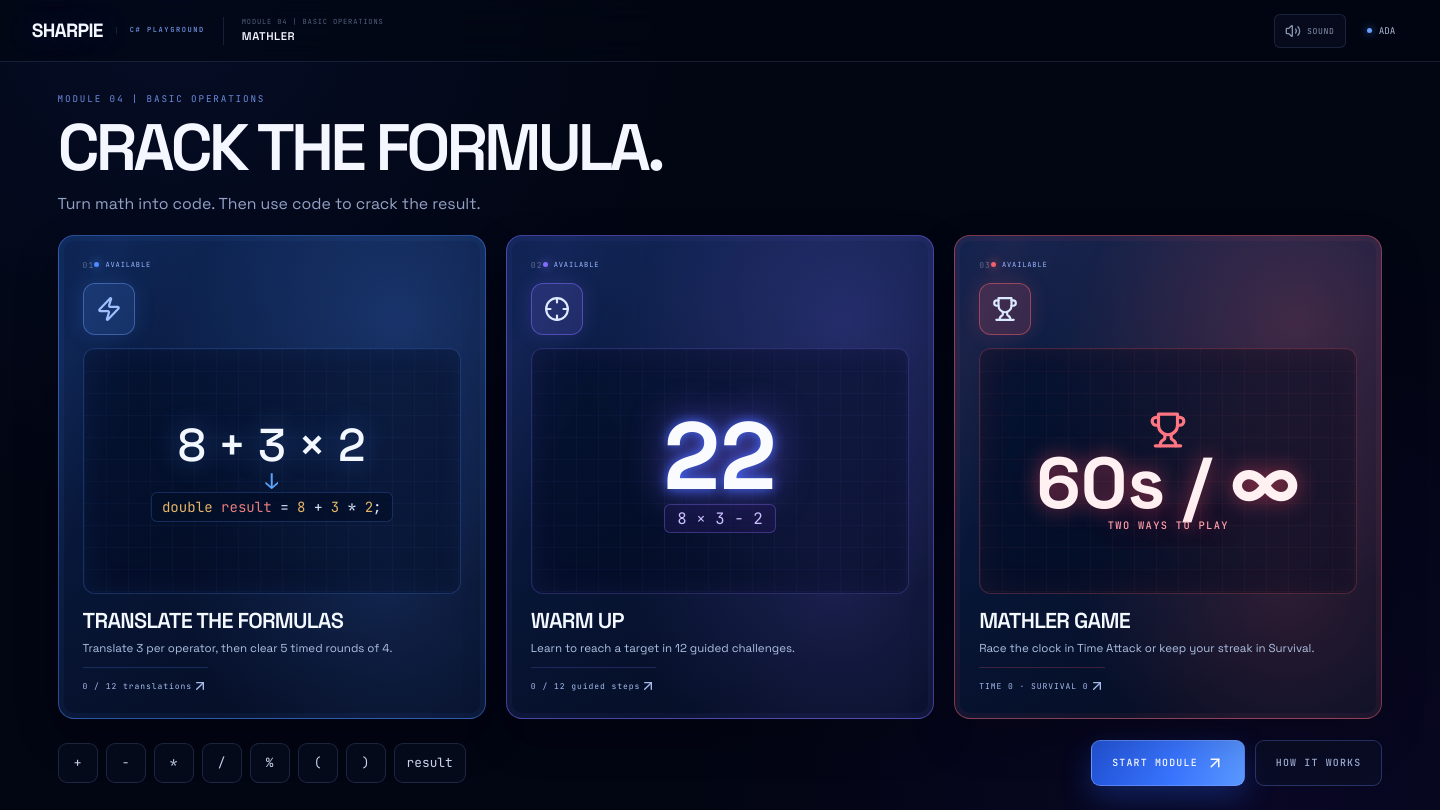
Test: BasicOperations module intro › opens the how-it-works dialog
Click the button "HOW IT WORKS".
click(1319, 763)  # box left=1255, top=740, right=1382, bottom=786
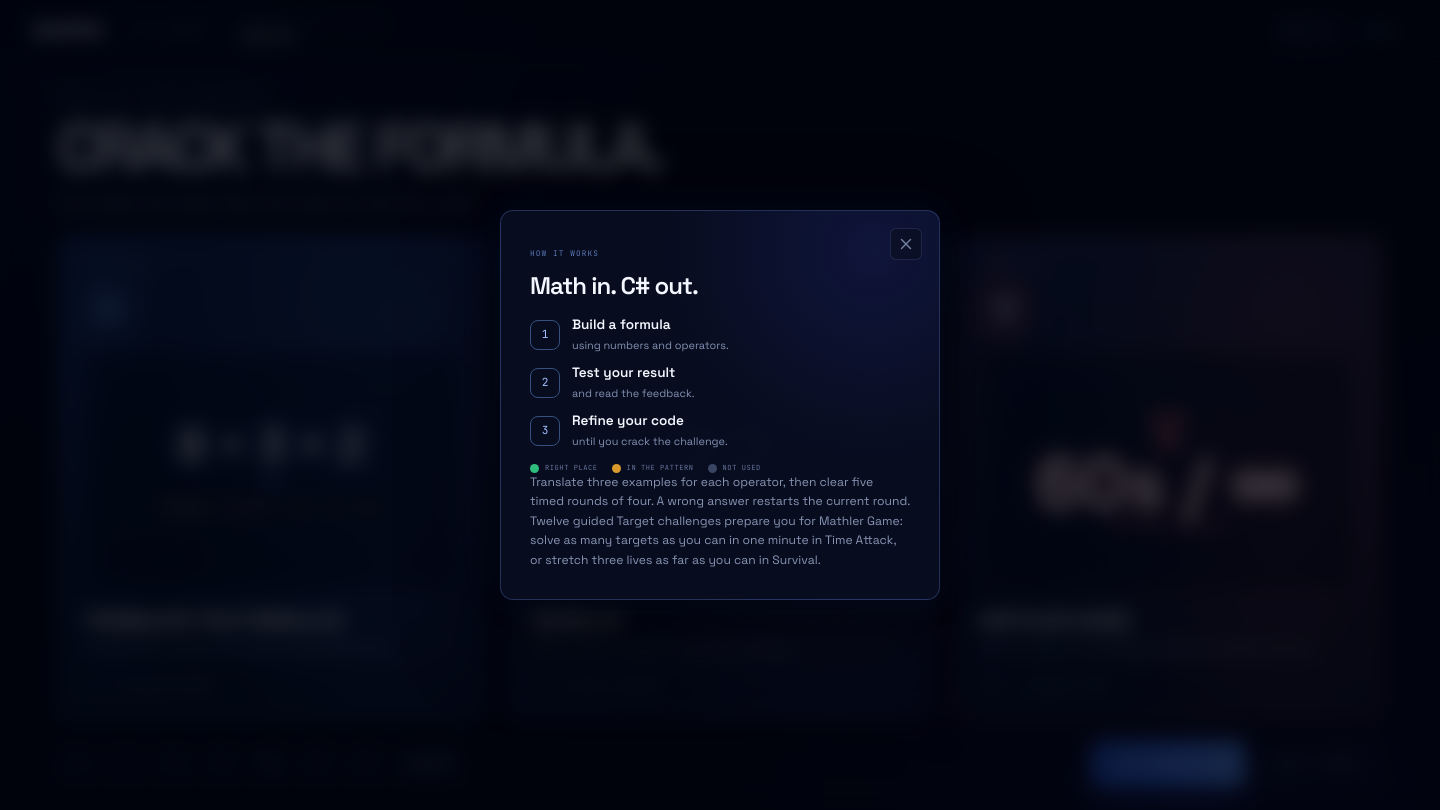
Expected: the heading "Math in. C# out." is shown, left=530, top=271, right=698, bottom=302
Expected: the text "Build a formula" is shown, left=572, top=316, right=670, bottom=333
